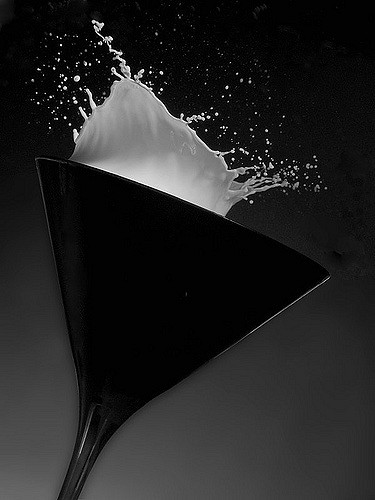glass of milk: (53, 32, 336, 460)
